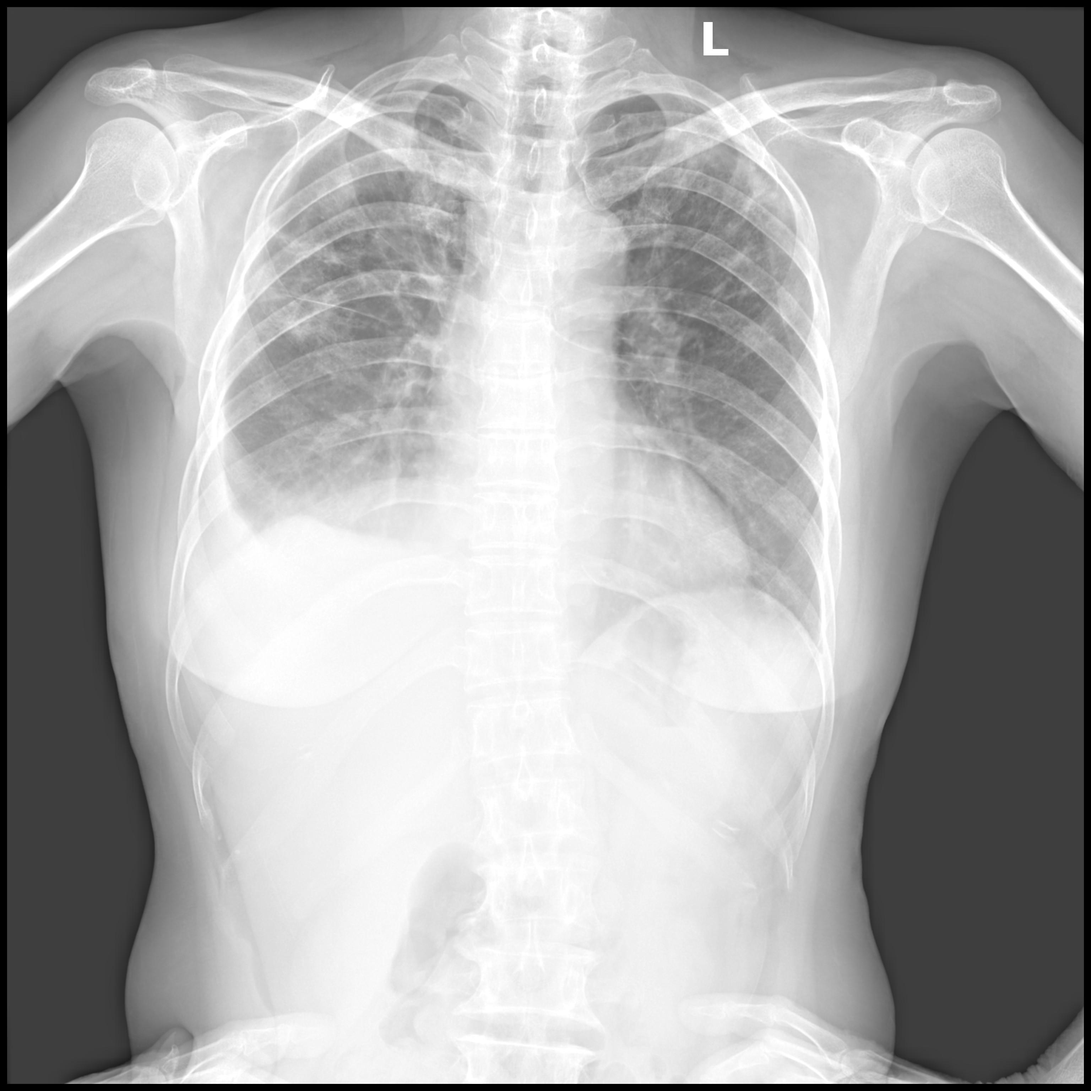Pulmonary fibrosis: (243, 105, 473, 346), (632, 110, 805, 322)
